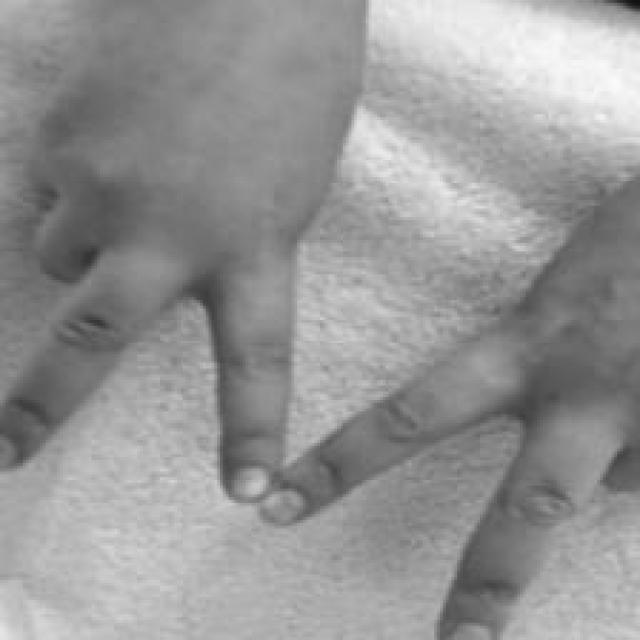M: (7, 99, 640, 640)
